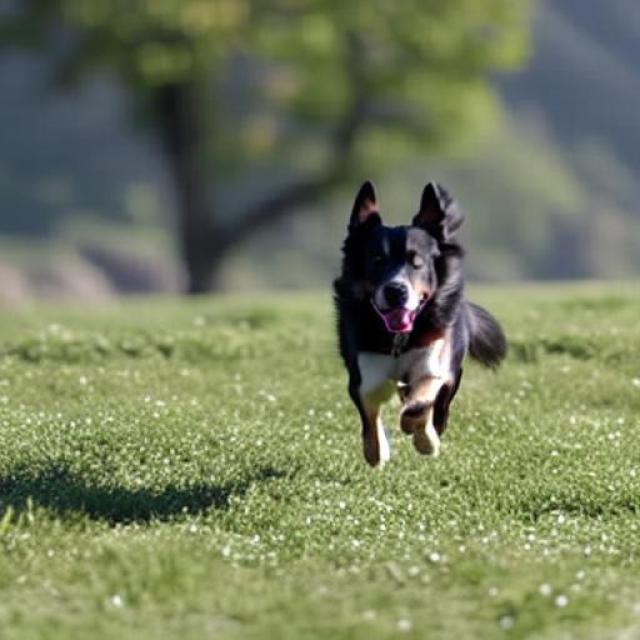Dog: (332, 179, 507, 469)
